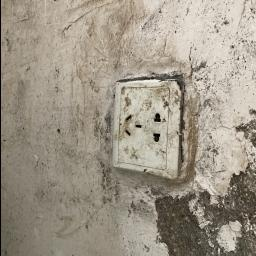outlet: (102, 64, 188, 190)
